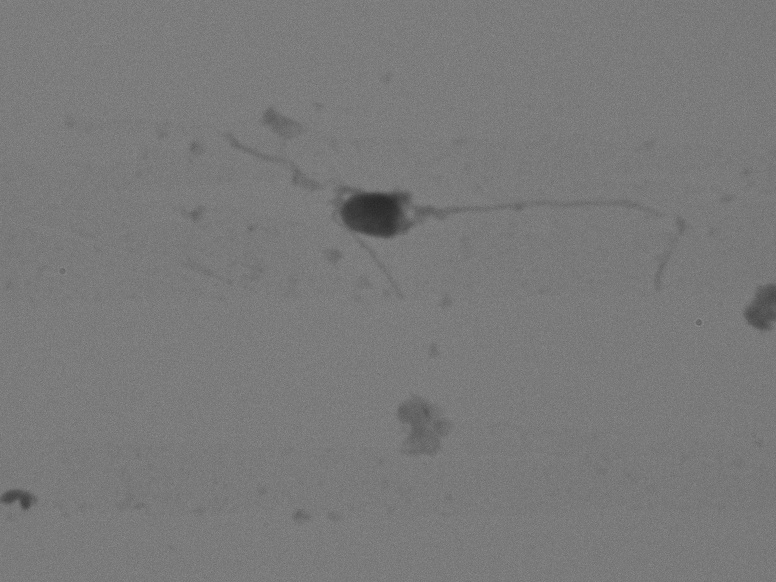Abnormal: (326, 141, 700, 320)
